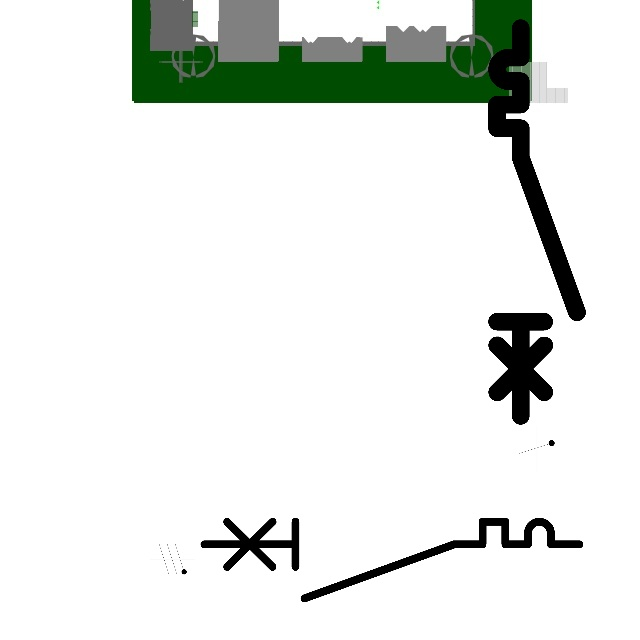interruptor_termomagnetico: (487, 18, 587, 426), (194, 512, 589, 608)
